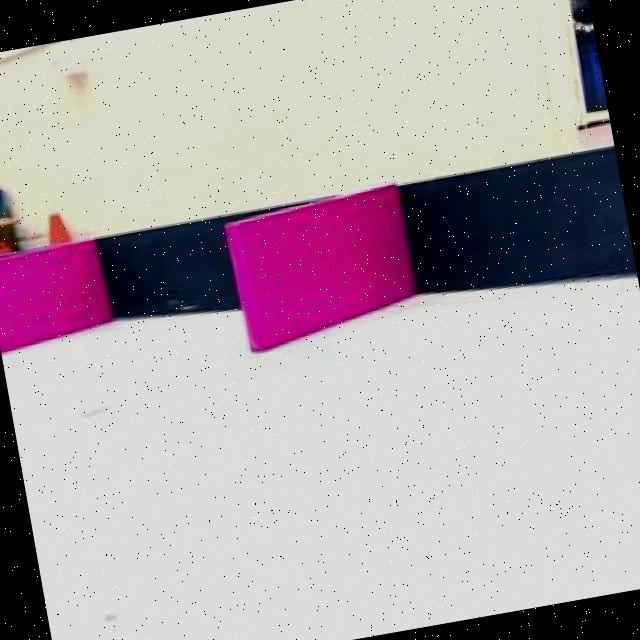xparking: (230, 192, 414, 350), (0, 238, 117, 357)
